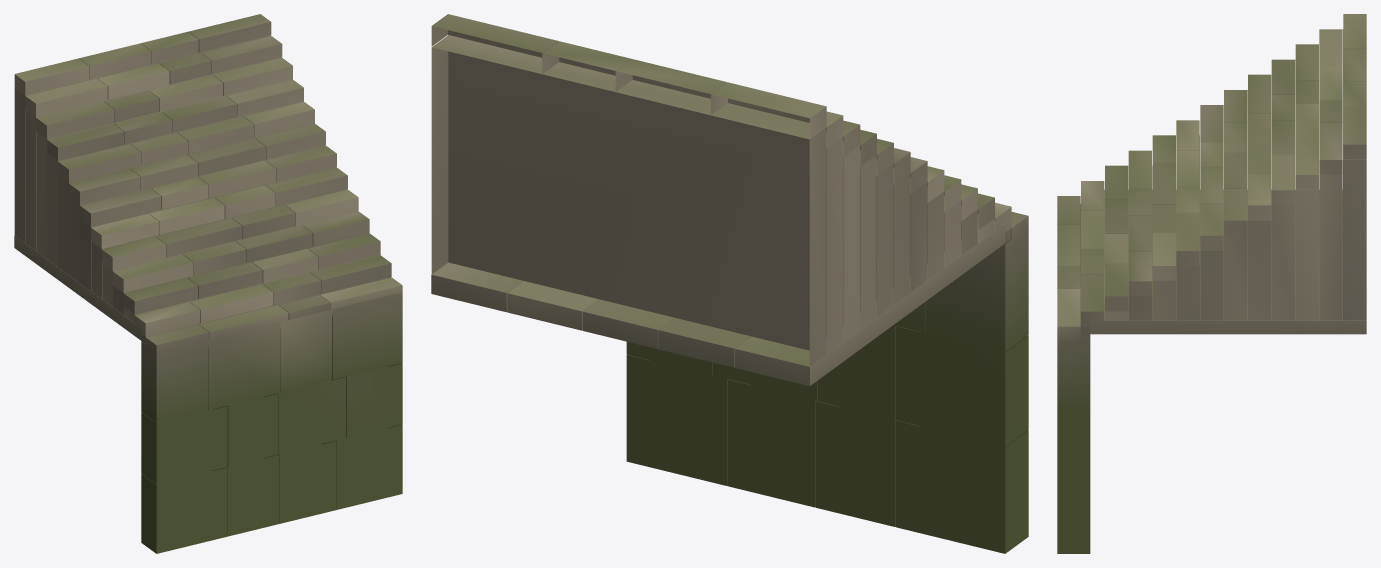
The model's file is sanctuary_stair_arch_mid.glb.
3 renders of one model, left to right at view 1: azimuth 30°, elevation 25°; view 2: azimuth 150°, elevation 25°; view 3: azimuth 270°, elevation 25°, orthographic. The views are drawn at different scales.
Parts seen in each view (by area): view 1: sanctuary_stair_arch_mid; view 2: sanctuary_stair_arch_mid; view 3: sanctuary_stair_arch_mid.
Boxes of the visible parts, bbox=[...] form: sanctuary_stair_arch_mid: bbox=[14, 14, 402, 553]; sanctuary_stair_arch_mid: bbox=[431, 14, 1028, 553]; sanctuary_stair_arch_mid: bbox=[1057, 14, 1366, 553].
Bounding box in the file's own units: 18.47 × 26.97 × 18.49.
